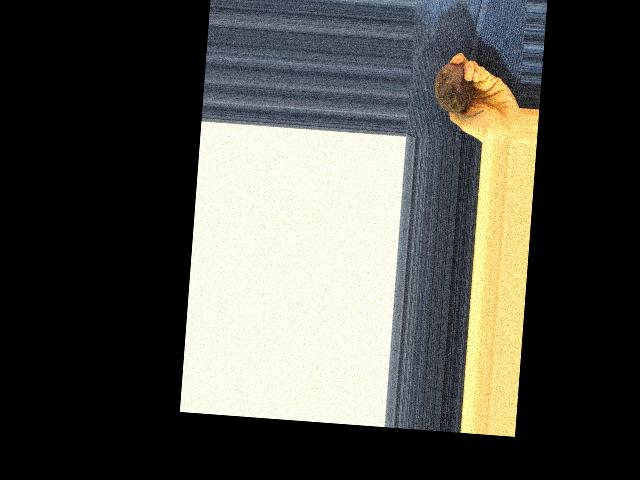beet: (433, 61, 488, 120)
